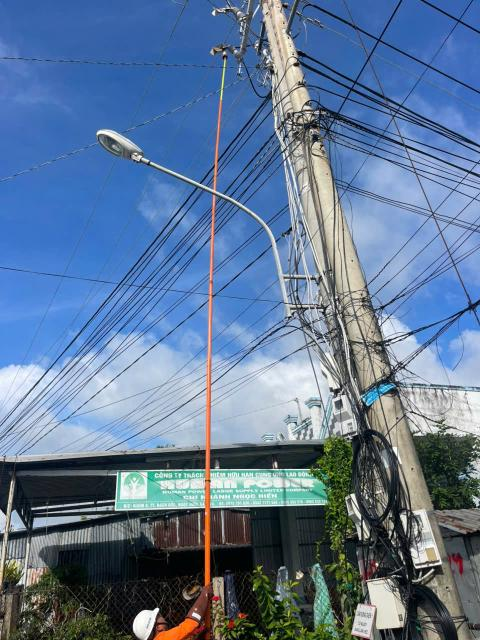gloves: (188, 583, 225, 627)
helmet: (131, 606, 170, 640)
